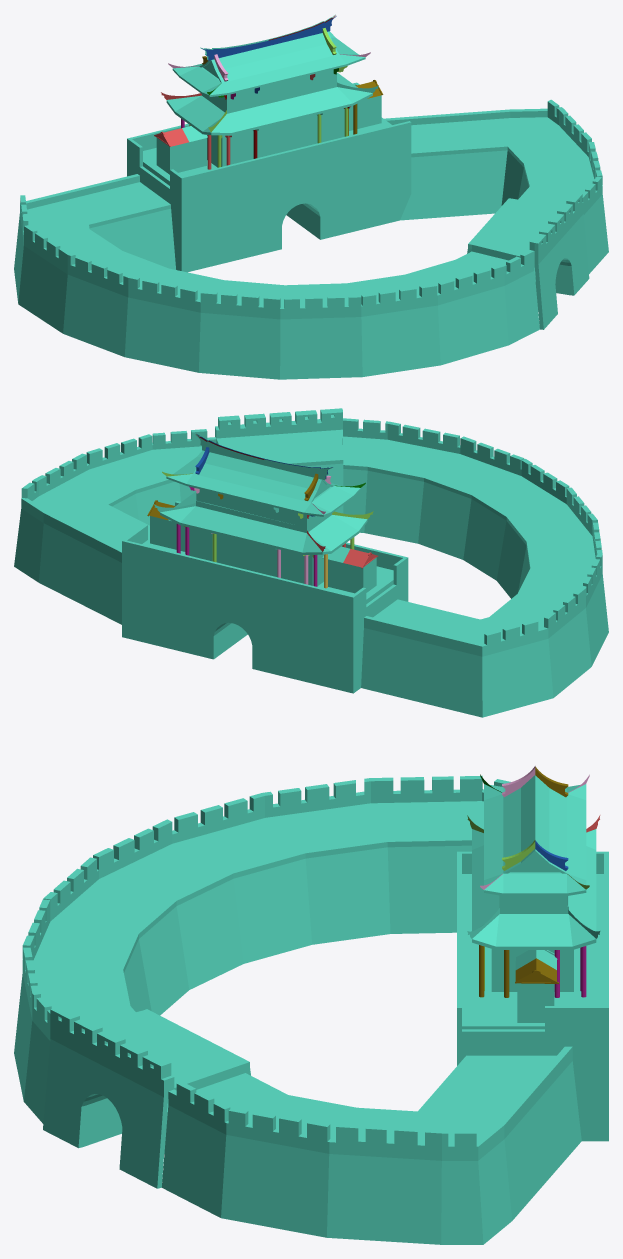
The picture shows the model from 3 angles, top to bottom: view 1: azimuth 30°, elevation 25°; view 2: azimuth 150°, elevation 25°; view 3: azimuth 270°, elevation 25°; orthographic projection. The views are drawn at different scales.
Parts seen in each view (by area): view 1: skpC180_001, Component_5_001; view 2: skpC180_001, Component_6_002, Component_5_002; view 3: skpC180_001, Component_12_001.
Boxes of the visible parts, left/top/right/bottom form: skpC180_001: left=14, top=31, right=608, bottom=379; Component_5_001: left=201, top=40, right=269, bottom=60; skpC180_001: left=14, top=408, right=608, bottom=717; Component_6_002: left=196, top=435, right=263, bottom=465; Component_5_002: left=263, top=460, right=331, bottom=480; skpC180_001: left=14, top=775, right=608, bottom=1244; Component_12_001: left=515, top=958, right=558, bottom=984.
Bounding box in the file's own units: 1738 × 601 × 1198.
